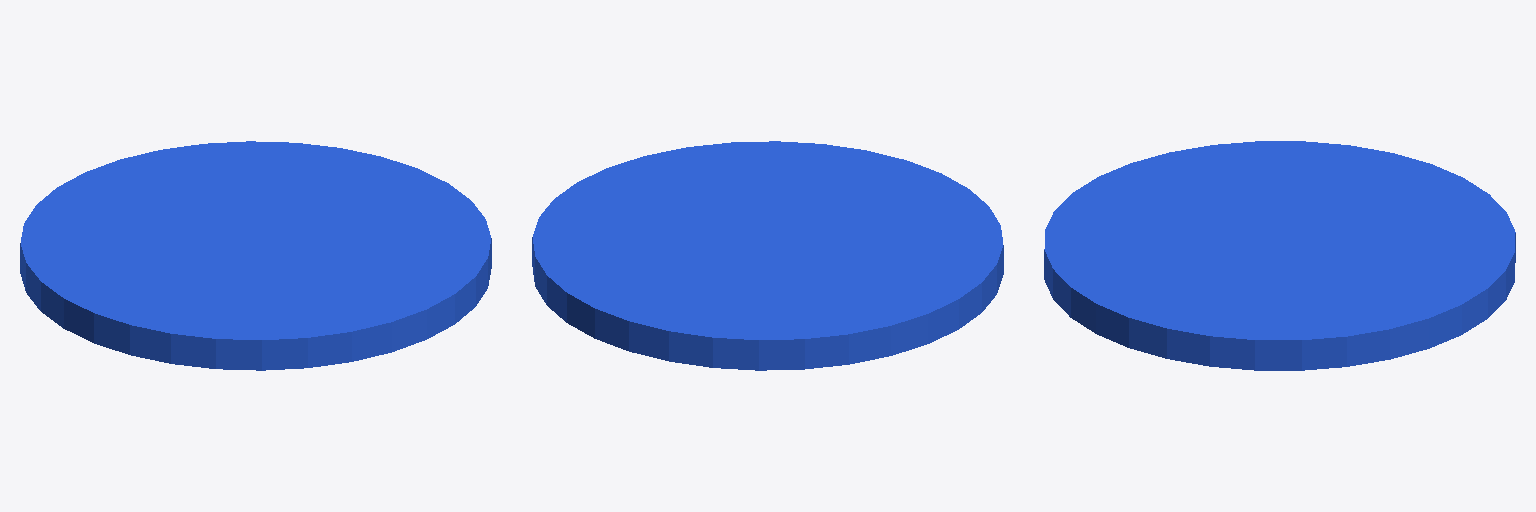
robot.urdf — Interference:
<?xml version="1.0"?>
<robot name="Interference">
  <link name="baseLink">
    <inertial>
      <origin xyz="0.0 0.0 0.0" rpy="0.0 0.0 0.0"/>
      <inertia ixx="0.0" ixy="0.0" ixz="0.0" iyy="0.0" iyz="0.0" izz="0.0"/>
      <mass value="0"/>
    </inertial>
    <visual>
      <origin xyz="0.0 0.0 0.0" rpy="0.0 0.0 -1.0868455436778284"/>
      <geometry>
        <cylinder radius="0.07043826568819538" length="0.01"/>
      </geometry>
      <material name="color">
        <color rgba="0.24249015896197568 0.4612056077128426 0.9481569694640549 1.0"/>
      </material>
    </visual>
  </link>
</robot>

--- Render facts (derived) ---
3 views of the same robot in one strip: view 1: azimuth 30°, elevation 25°; view 2: azimuth 150°, elevation 25°; view 3: azimuth 270°, elevation 25° (orthographic).
Model Interference with 1 links and 0 joints (none), rooted at baseLink, posed all joints at 0.
Visible links, largest first — view 1: baseLink; view 2: baseLink; view 3: baseLink.
Boxes of the visible links, x1,y1,x2,y2 form: baseLink: [20, 141, 491, 370]; baseLink: [532, 141, 1003, 370]; baseLink: [1044, 141, 1515, 370].
Bounding box of the posed robot: 0.1403 × 0.1403 × 0.01 m (x, y, z).
Geometry: primitives only (box / cylinder / sphere), no mesh files.